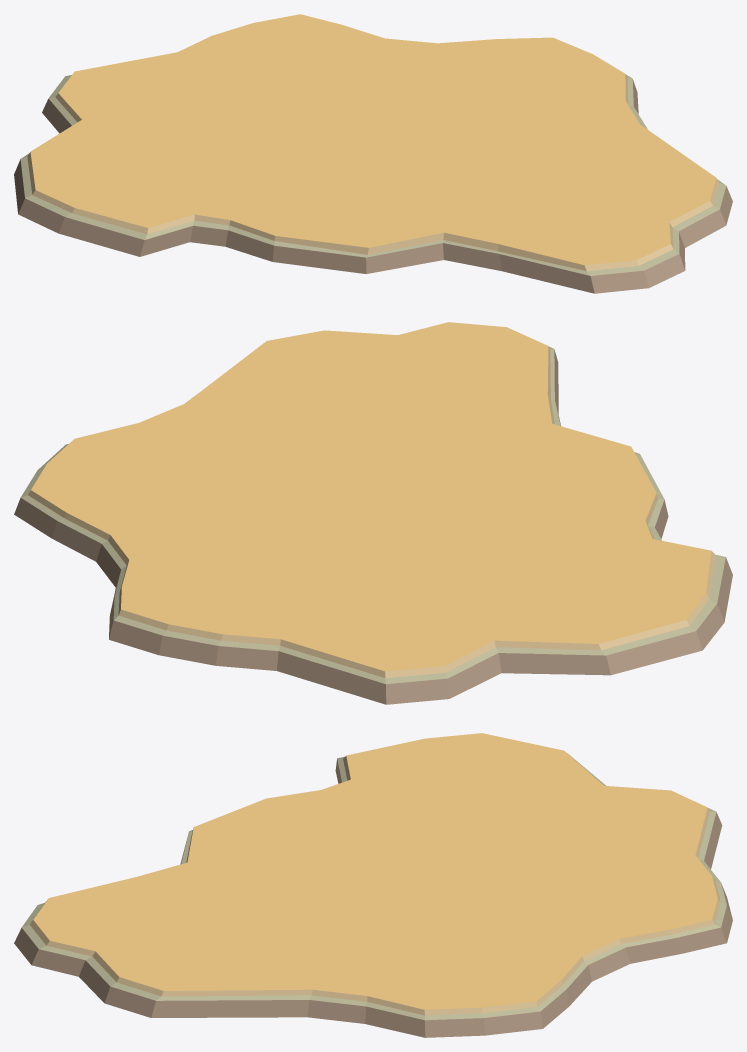
File: groundPlatform0-brown.fbx
The picture shows the model from 3 angles, top to bottom: view 1: azimuth 30°, elevation 25°; view 2: azimuth 150°, elevation 25°; view 3: azimuth 270°, elevation 25°; orthographic projection. The views are drawn at different scales.
Parts seen in each view (by area): view 1: Cylinder; view 2: Cylinder; view 3: Cylinder.
Part boxes in pixels (<box>): Cylinder: <box>14,14,732,293</box>; Cylinder: <box>14,322,732,704</box>; Cylinder: <box>14,733,732,1037</box>.
Size of the model in its own units: 1031 by 36.36 by 1078.
